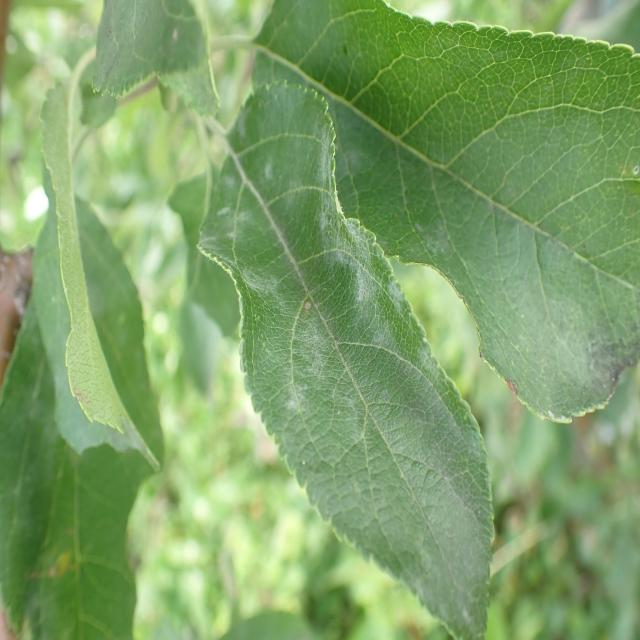Powdery_mildew: (177, 121, 469, 624)
Rust: (33, 536, 92, 597)
scab: (515, 281, 640, 420)
